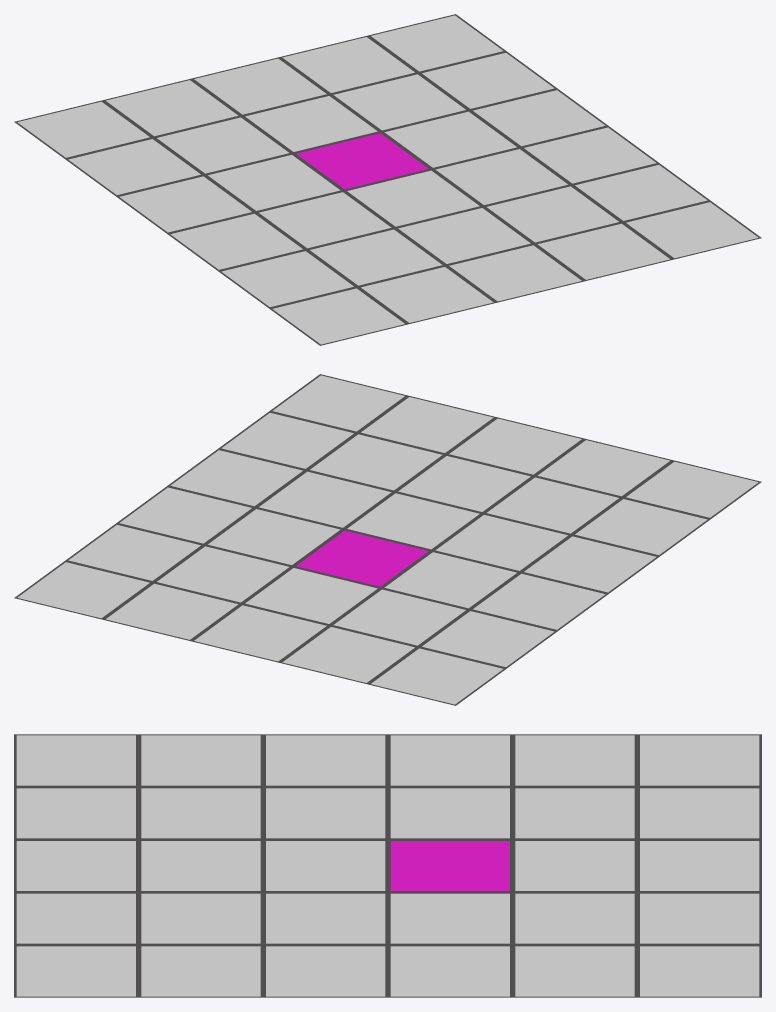
3 renders of one model, top to bottom at view 1: azimuth 30°, elevation 25°; view 2: azimuth 150°, elevation 25°; view 3: azimuth 270°, elevation 25°, orthographic. The views are drawn at different scales.
Parts seen in each view (by area): view 1: Plane.002; view 2: Plane.002; view 3: Plane.002.
Boxes of the visible parts, box(x1,y1,x2,y2) form: Plane.002: box(14, 14, 761, 345); Plane.002: box(14, 374, 761, 705); Plane.002: box(14, 734, 761, 997).
Bounding box in the file's own units: 767 × 6.95e-05 × 921.
